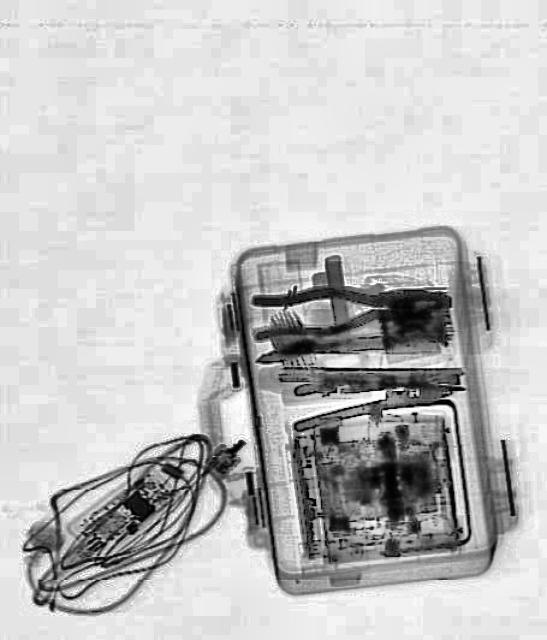Pliers: (250, 279, 454, 341)
